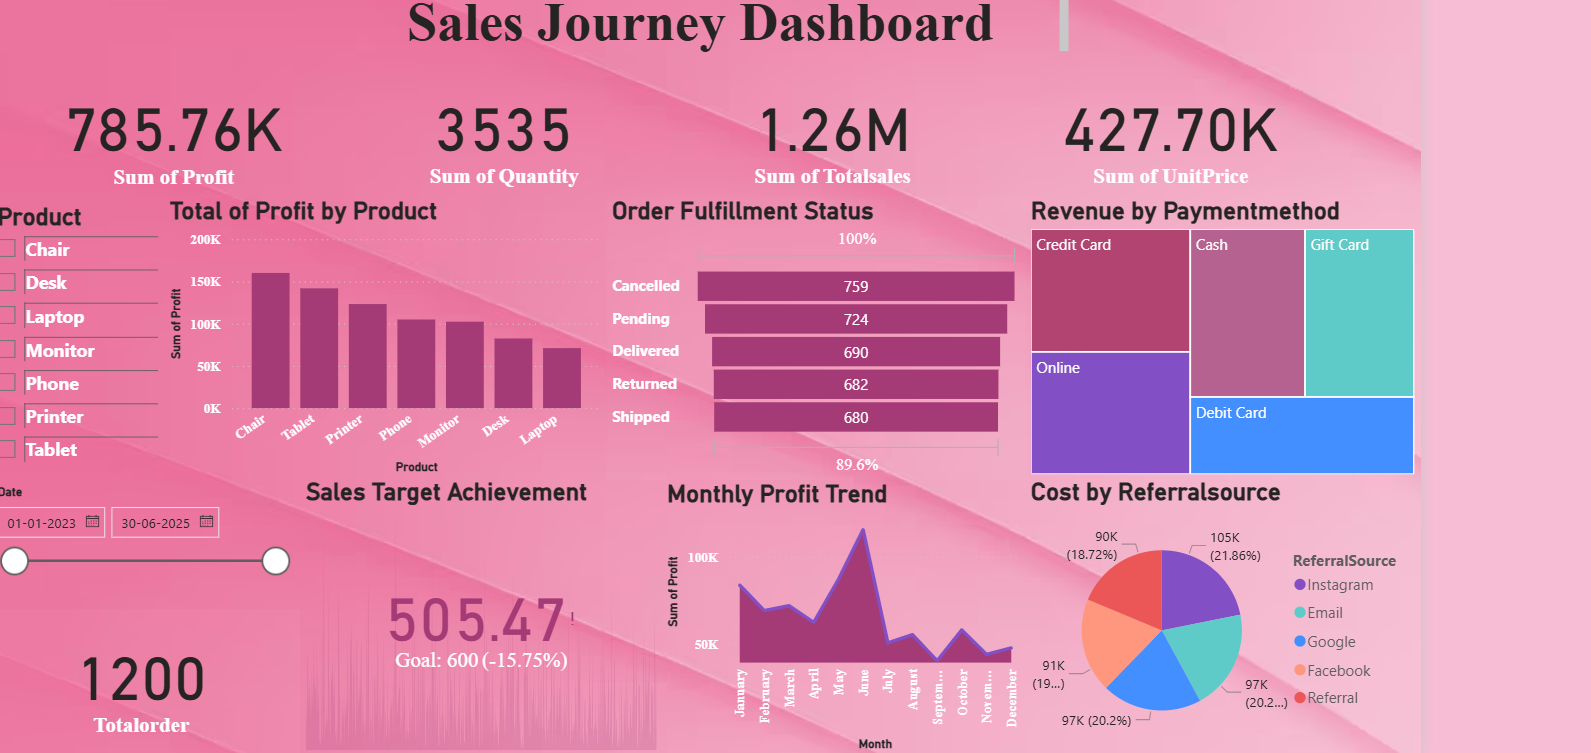

Layout of this report page (visuals, bound fields, positions):
{"tool":"powerbi","page":{"name":"Page 1","canvas":[1280,720],"ordinal":0},"visuals":[{"type":"slicer","fields":{"Values":["cleaned data.Product"]},"box":[0,221.1,161.1,252.2],"z":0},{"type":"clusteredColumnChart","title":"Total of Profit by Product","fields":{"Category":["cleaned data.Product"],"Y":["Sum(cleaned data.Profit)"]},"box":[161.1,221.1,394.4,252.2],"z":1000},{"type":"funnel","title":"Order Fulfillment Status","fields":{"Category":["cleaned data.OrderStatus"],"Y":["Sum(cleaned data.Quantity)"]},"box":[555.6,221.1,373.3,252.2],"z":2000},{"type":"treemap","title":"Revenue by Paymentmethod","fields":{"Group":["cleaned data.PaymentMethod"],"Values":["Sum(cleaned data.Totalsales)"]},"box":[928.9,221.1,351.1,252.2],"z":3000},{"type":"areaChart","title":"Monthly Profit Trend","fields":{"Category":["cleaned data.Date.Variation.Date Hierarchy.Month"],"Y":["Sum(cleaned data.Profit)"]},"box":[604.1,473.1,325.2,247.3],"z":4000},{"type":"kpi","title":"Sales Target Achievement","fields":{"TrendLine":["cleaned data.Date"],"Indicator":["Sum(cleaned data.Totalsales)"],"Goal":["cleaned data.Targetsales"]},"box":[282.2,472.2,322.2,247.8],"z":5000},{"type":"slicer","fields":{"Values":["cleaned data.Date"]},"box":[0,473.3,282.2,114.4],"z":6000},{"type":"card","fields":{"Values":["cleaned data.Totalorder"]},"box":[0,588.9,282.2,131.1],"z":7000},{"type":"pieChart","title":"Cost by Referralsource","fields":{"Y":["Sum(cleaned data.Cost Per Product)"],"Category":["cleaned data.ReferralSource"]},"box":[928.9,472.2,351.1,247.8],"z":8000},{"type":"textbox","box":[313.9,33.4,657.9,64.6],"z":9000},{"type":"card","fields":{"Values":["Sum(cleaned data.Profit)"]},"box":[57.8,111.1,224.4,108.9],"z":10000},{"type":"card","fields":{"Values":["Sum(cleaned data.Quantity)"]},"box":[372.6,110.7,182.9,109.5],"z":11000},{"type":"card","fields":{"Values":["Sum(cleaned data.Totalsales)"]},"box":[652.7,110.7,208.9,109.5],"z":12000},{"type":"card","fields":{"Values":["Sum(cleaned data.UnitPrice)"]},"box":[948.5,116.3,219.1,99.4],"z":13000}]}

Visuals, with their boxes on the page's 1280x720 design canvas (x1, y1, x2, y2). These are canvas units, not pixel positions in the 1591x753 screenshot, which may show the page scaled, cropped or inside an application window:
slicer - cleaned data.Product: left=0, top=221, right=161, bottom=473
"Total of Profit by Product" clusteredColumnChart: left=161, top=221, right=556, bottom=473
"Order Fulfillment Status" funnel: left=556, top=221, right=929, bottom=473
"Revenue by Paymentmethod" treemap: left=929, top=221, right=1280, bottom=473
"Monthly Profit Trend" areaChart: left=604, top=473, right=929, bottom=720
"Sales Target Achievement" kpi: left=282, top=472, right=604, bottom=720
slicer - cleaned data.Date: left=0, top=473, right=282, bottom=588
card - cleaned data.Totalorder: left=0, top=589, right=282, bottom=720
"Cost by Referralsource" pieChart: left=929, top=472, right=1280, bottom=720
textbox: left=314, top=33, right=972, bottom=98
card - Sum(cleaned data.Profit): left=58, top=111, right=282, bottom=220
card - Sum(cleaned data.Quantity): left=373, top=111, right=556, bottom=220
card - Sum(cleaned data.Totalsales): left=653, top=111, right=862, bottom=220
card - Sum(cleaned data.UnitPrice): left=948, top=116, right=1168, bottom=216
